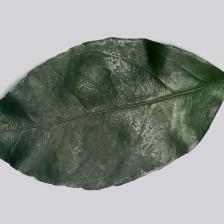healthy: (0, 39, 224, 186)
